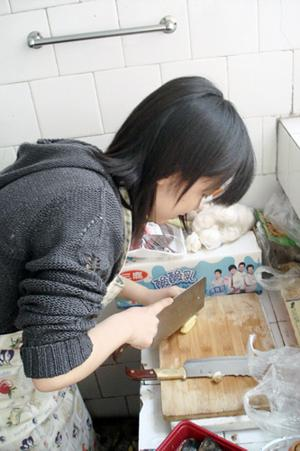person: (2, 77, 254, 450)
